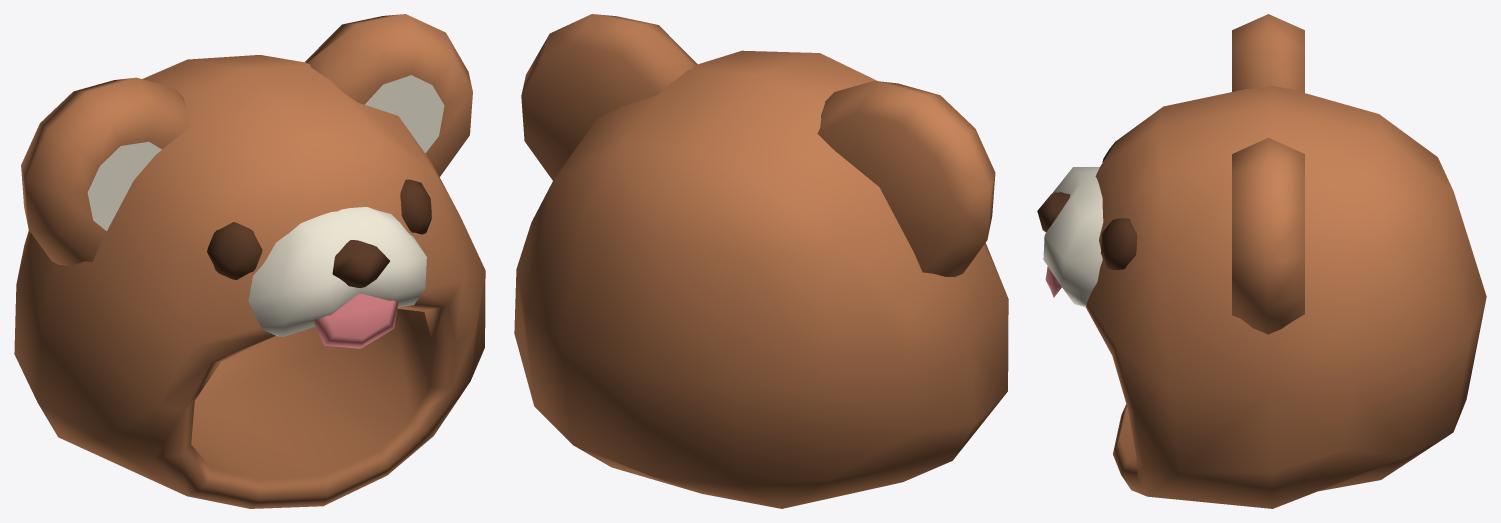
File: Headgear_34.fbx
3 renders of one model, left to right at view 1: azimuth 30°, elevation 25°; view 2: azimuth 150°, elevation 25°; view 3: azimuth 270°, elevation 25°, orthographic. The views are drawn at different scales.
Parts seen in each view (by area): view 1: Headgear_34; view 2: Headgear_34; view 3: Headgear_34.
Boxes of the visible parts, bbox=[...] form: Headgear_34: bbox=[14, 14, 485, 508]; Headgear_34: bbox=[514, 14, 1008, 508]; Headgear_34: bbox=[1037, 14, 1486, 508].
Size of the model in its own units: 74.44 by 66.02 by 68.36.
